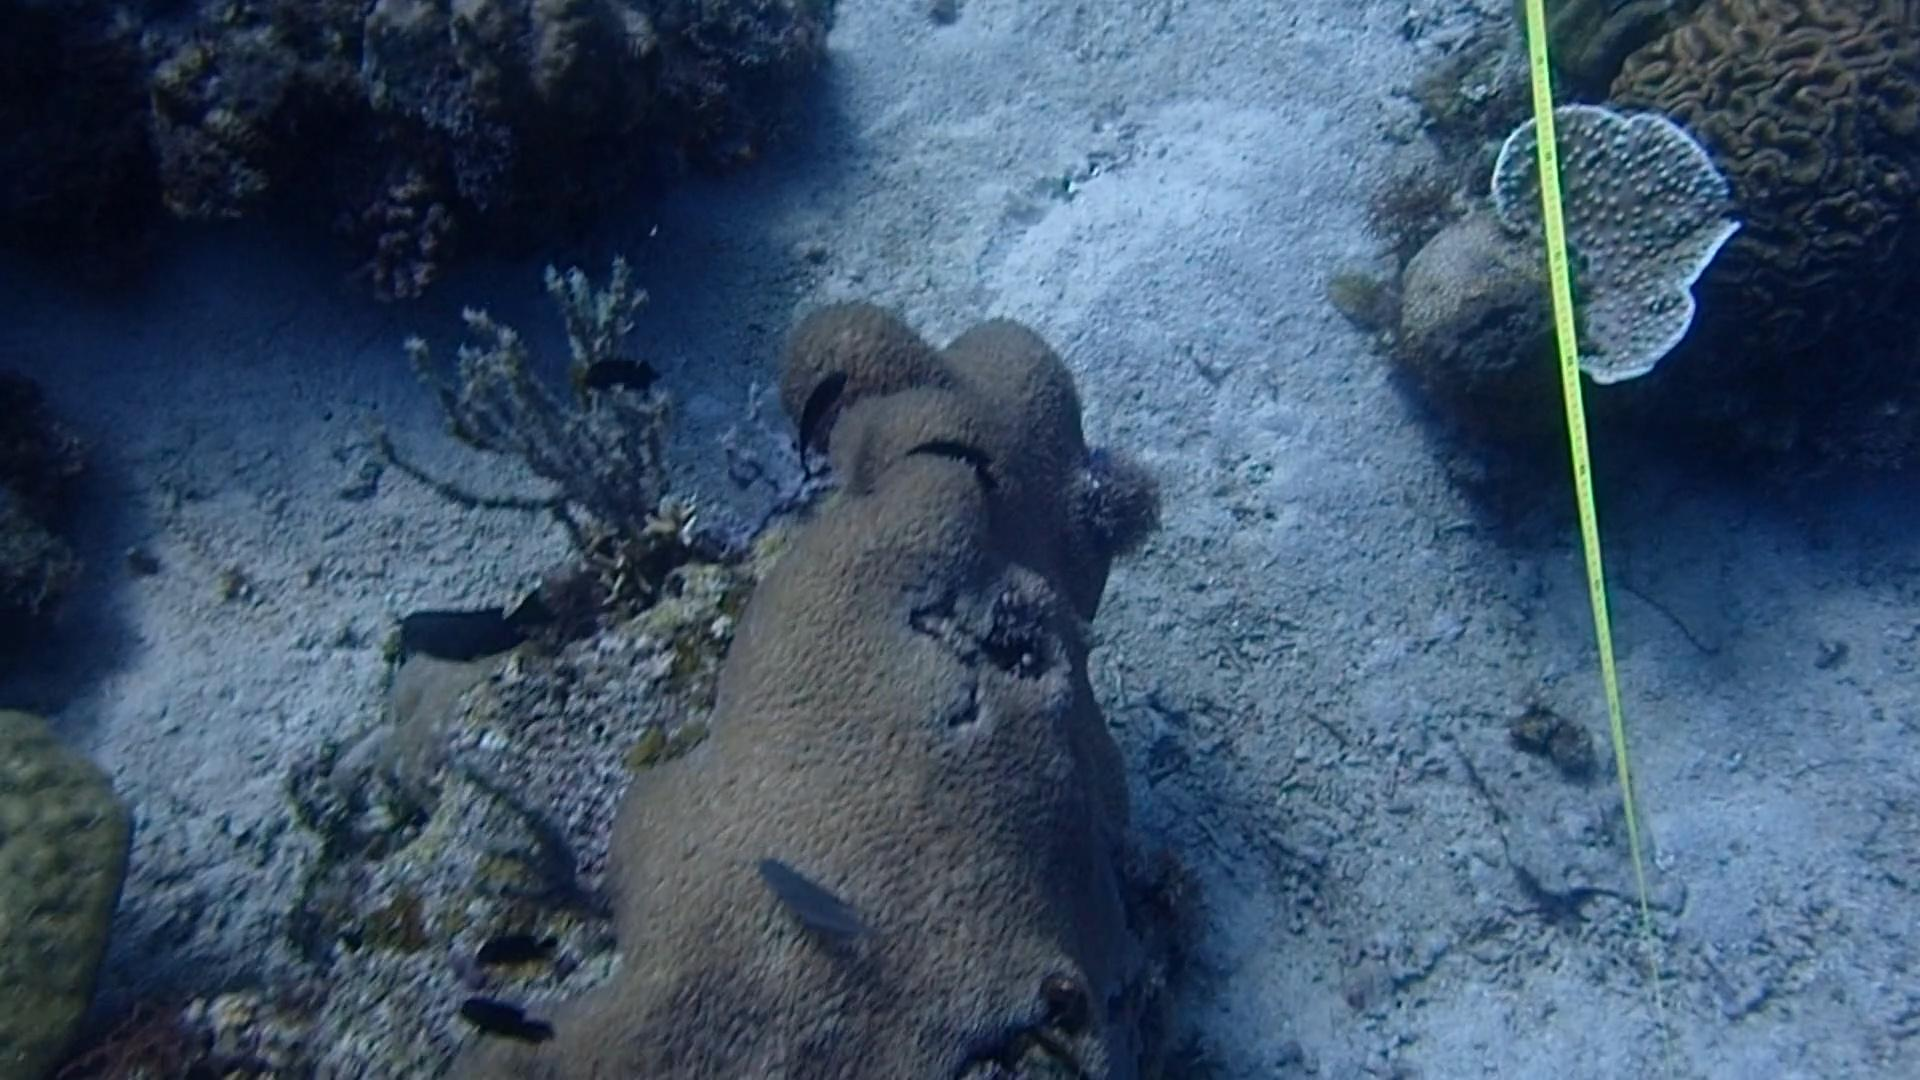Big Dark Blue Fish: (389, 585, 546, 676)
Dark Fish: (773, 364, 866, 459), (901, 419, 1005, 496), (456, 994, 562, 1055), (468, 918, 574, 976), (578, 344, 669, 398)
Light Fish: (753, 847, 885, 949)
